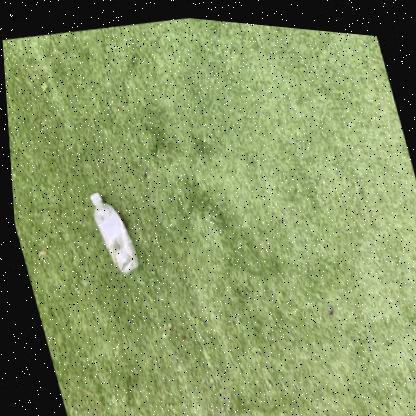Plastic: (86, 190, 132, 272)
